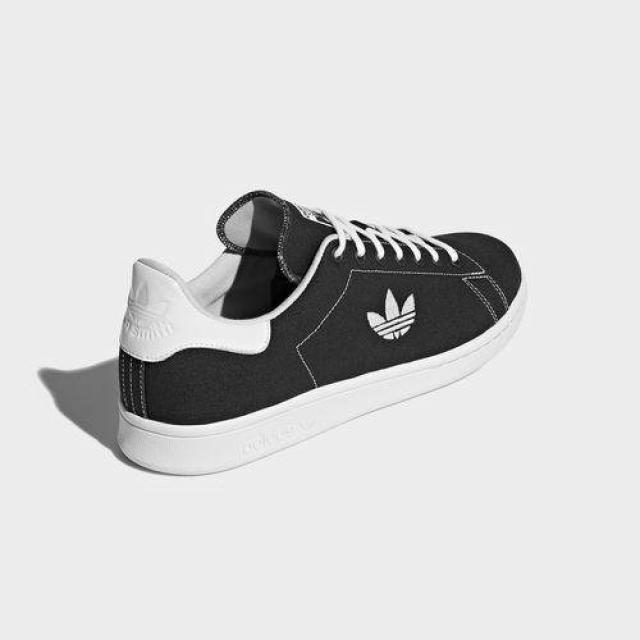Adidas: (360, 286, 422, 350)
